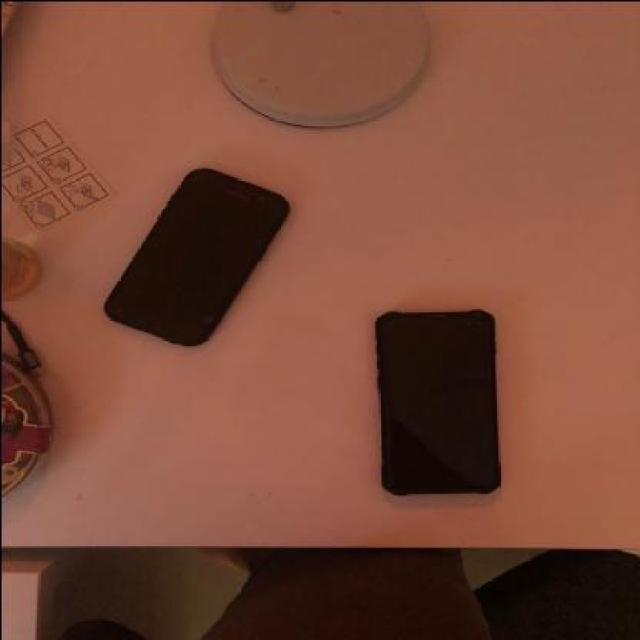phone: (98, 166, 292, 345), (376, 310, 502, 492)
